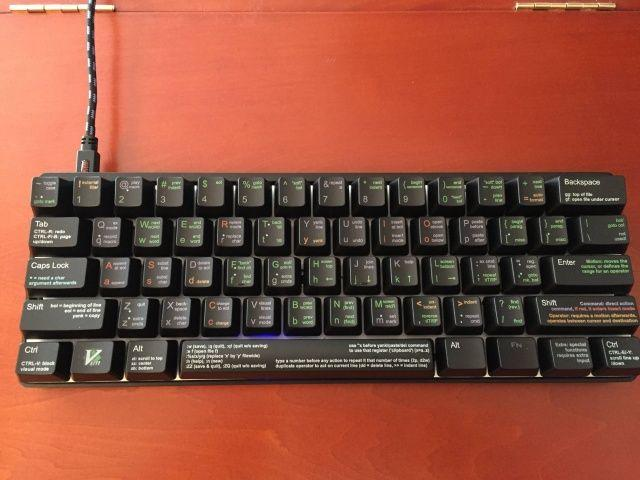keyboard: (15, 170, 639, 386)
